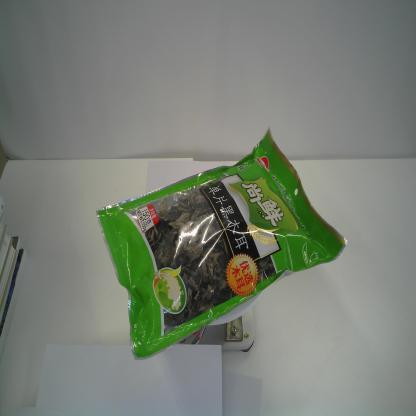Dried Food: (92, 124, 352, 363)
